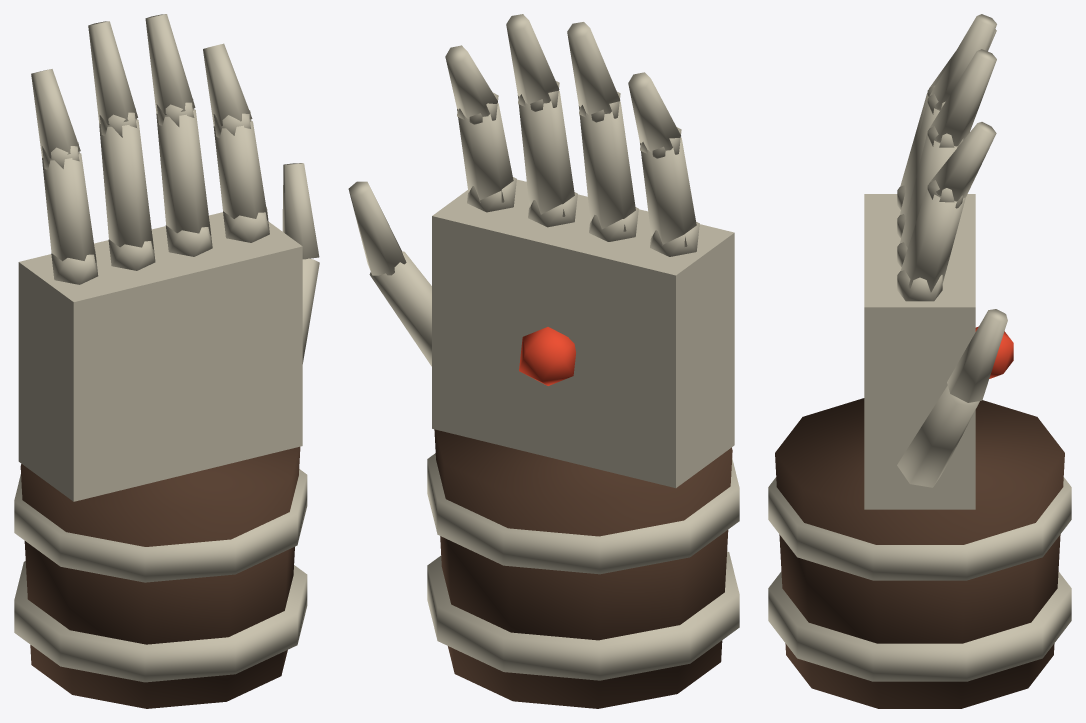
File: bone_glove.glb
3 renders of one model, left to right at view 1: azimuth 30°, elevation 25°; view 2: azimuth 150°, elevation 25°; view 3: azimuth 270°, elevation 25°, orthographic. The views are drawn at different scales.
Visible parts, largest first — view 1: bone_glove_v0; view 2: bone_glove_v0; view 3: bone_glove_v0.
Part boxes in pixels (x1,y1,x2,y2): bone_glove_v0: (14,14,319,708); bone_glove_v0: (348,14,739,708); bone_glove_v0: (768,14,1071,708).
Size of the model in its own units: 0.1595 by 0.309 by 0.136.
